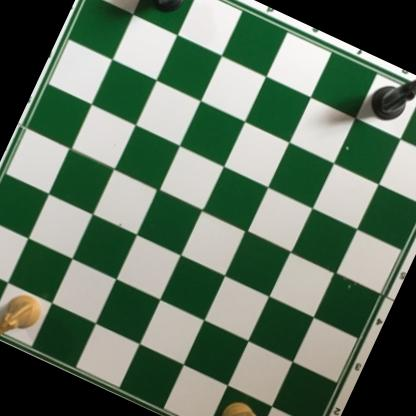black-knight: (363, 62, 416, 130), (143, 0, 196, 22)
white-knight: (0, 285, 48, 348), (211, 396, 263, 416)
